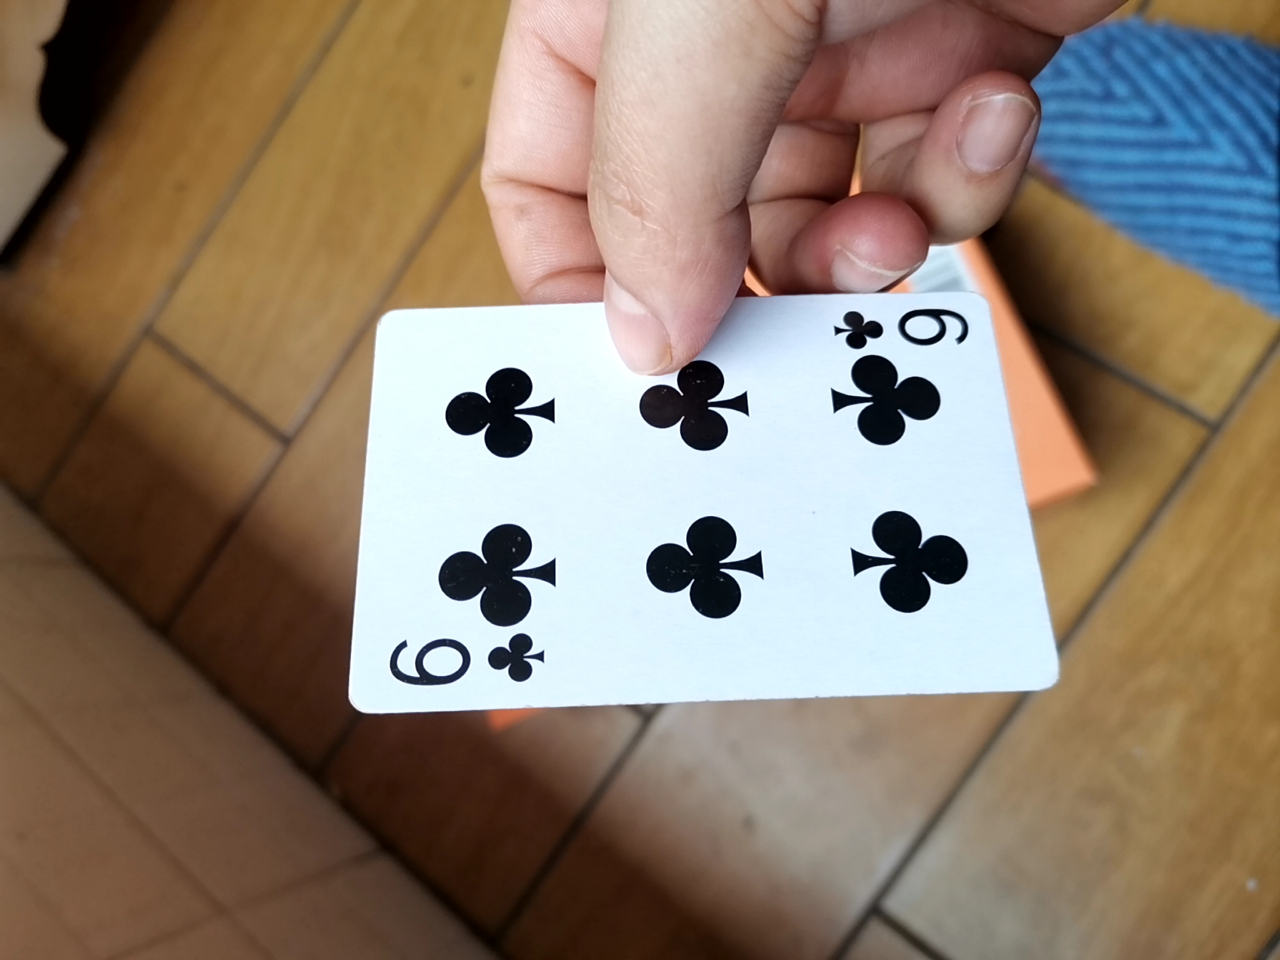mh 6: (329, 267, 1061, 718)
